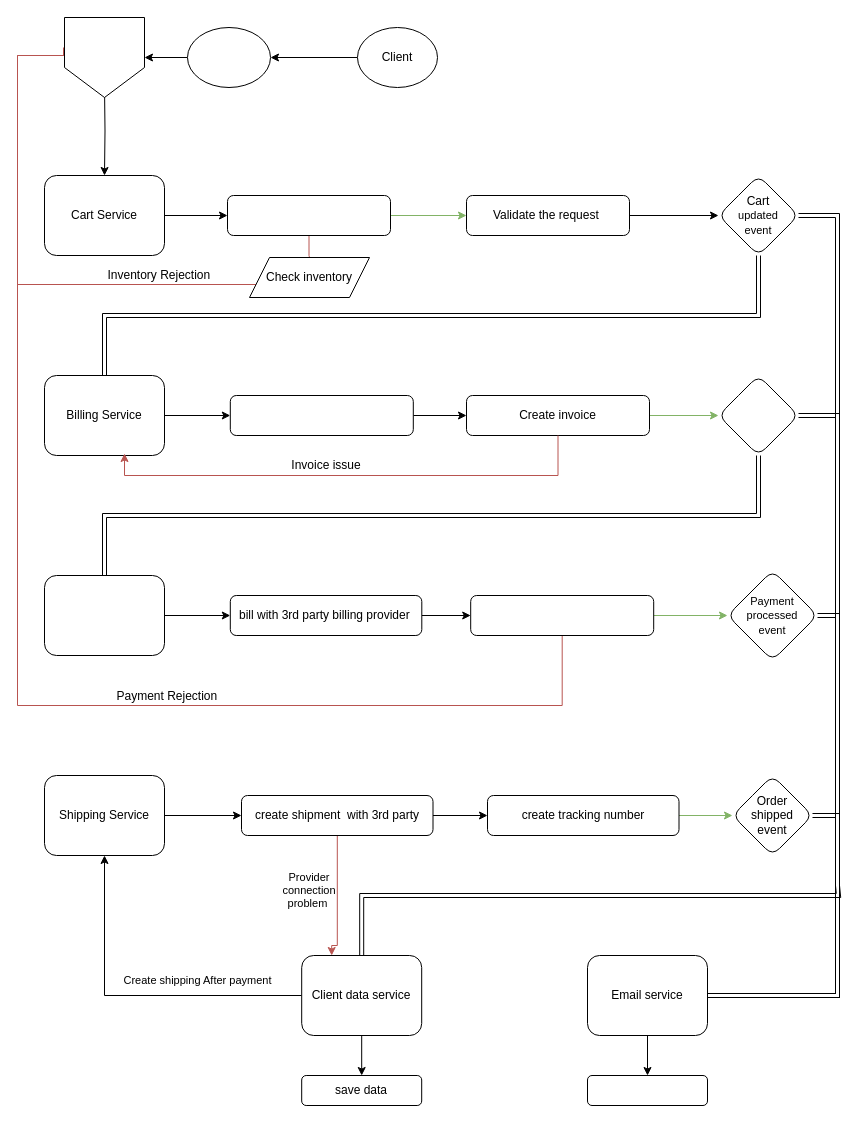
Some shapes in this 859 by 1123 pixel diagram are drawn without their labels. The shapes that lost their labels are listed below. From the top down, each one's centre as x and y in pixels, then its label:
At point (104, 57): "Order process".
At point (228, 57): "API Gateway".
At point (308, 215): "Manage shopping cart".
At point (321, 415): "Calculate shopping cart amount".
At point (758, 415): "Invoice created event".
At point (104, 615): "Payment Service".
At point (562, 615): "create transaction".
At point (647, 1090): "send email".
